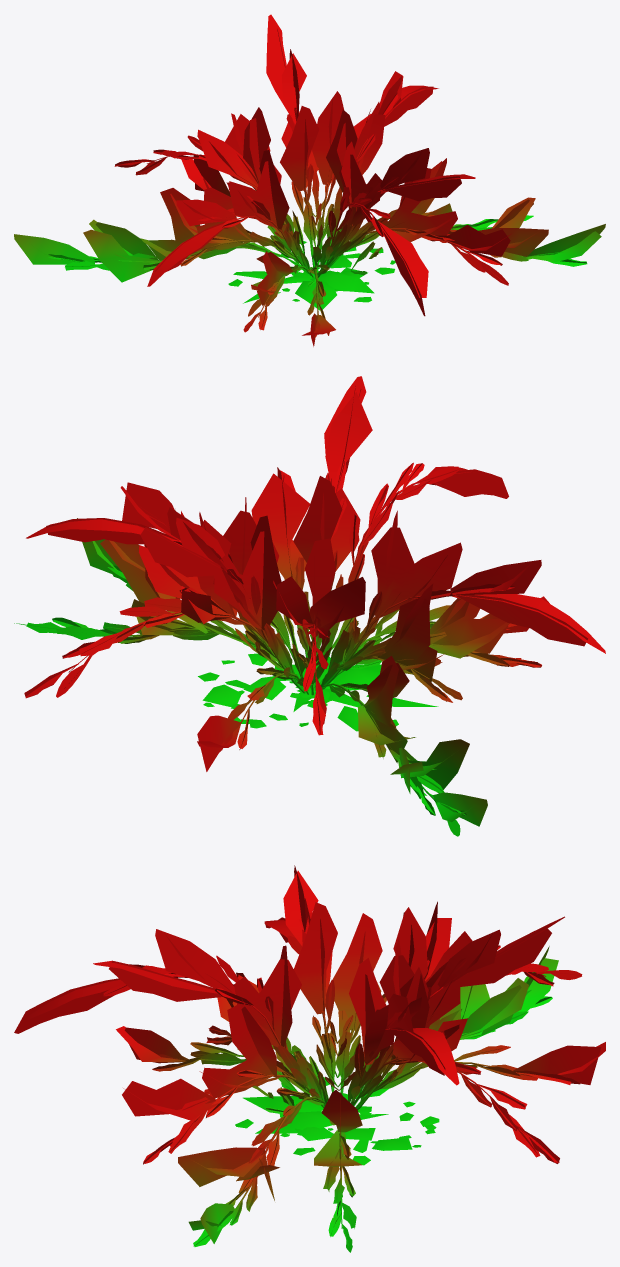
File: River Saltbush_LOD1_Var1_vdfpcgbia.fbx
3 renders of one model, top to bottom at view 1: azimuth 30°, elevation 25°; view 2: azimuth 150°, elevation 25°; view 3: azimuth 270°, elevation 25°, orthographic. The views are drawn at different scales.
Parts seen in each view (by area): view 1: _7neq_Var1_LOD1; view 2: _7neq_Var1_LOD1; view 3: _7neq_Var1_LOD1.
Part boxes in pixels (left/top/right/bottom): _7neq_Var1_LOD1: left=14, top=14, right=605, bottom=346; _7neq_Var1_LOD1: left=14, top=376, right=605, bottom=836; _7neq_Var1_LOD1: left=14, top=865, right=605, bottom=1252.
Bounding box in the file's own units: 84.34 × 33.95 × 76.41.
